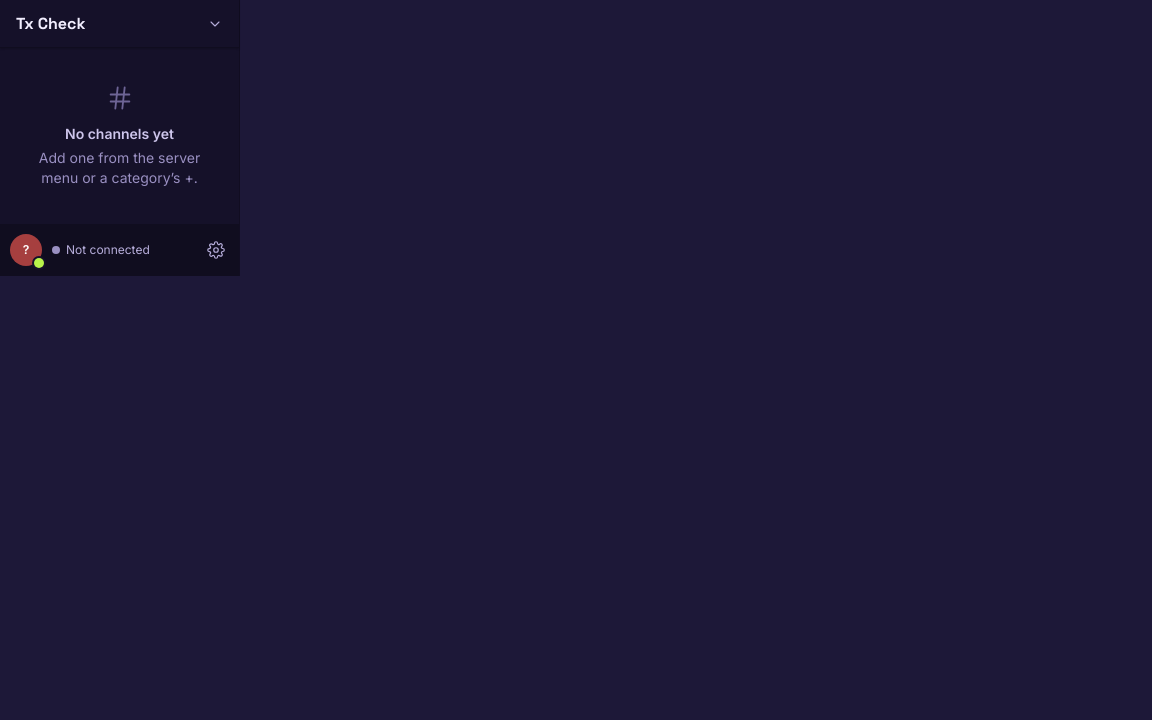
Scenario: cancelling the delete keeps the server
Click the button "Tx Check" at (120,24), box [8,0,231,47]
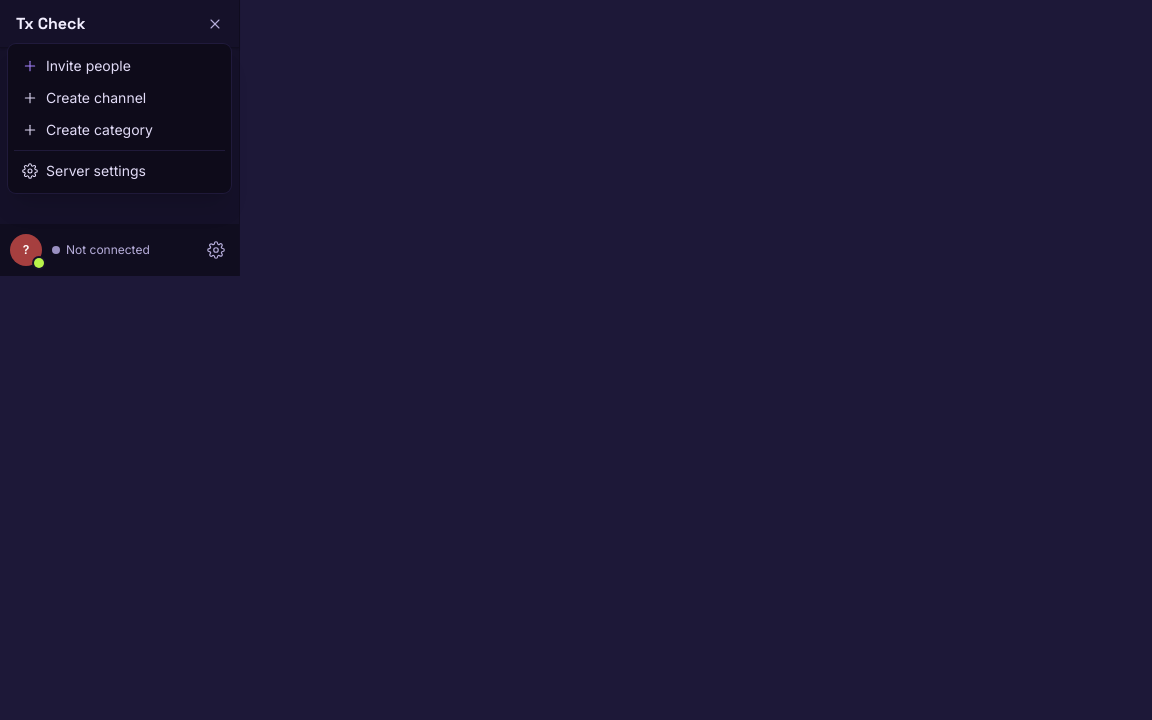
Click the button "Server settings" at (120,171), box [14,155,225,187]
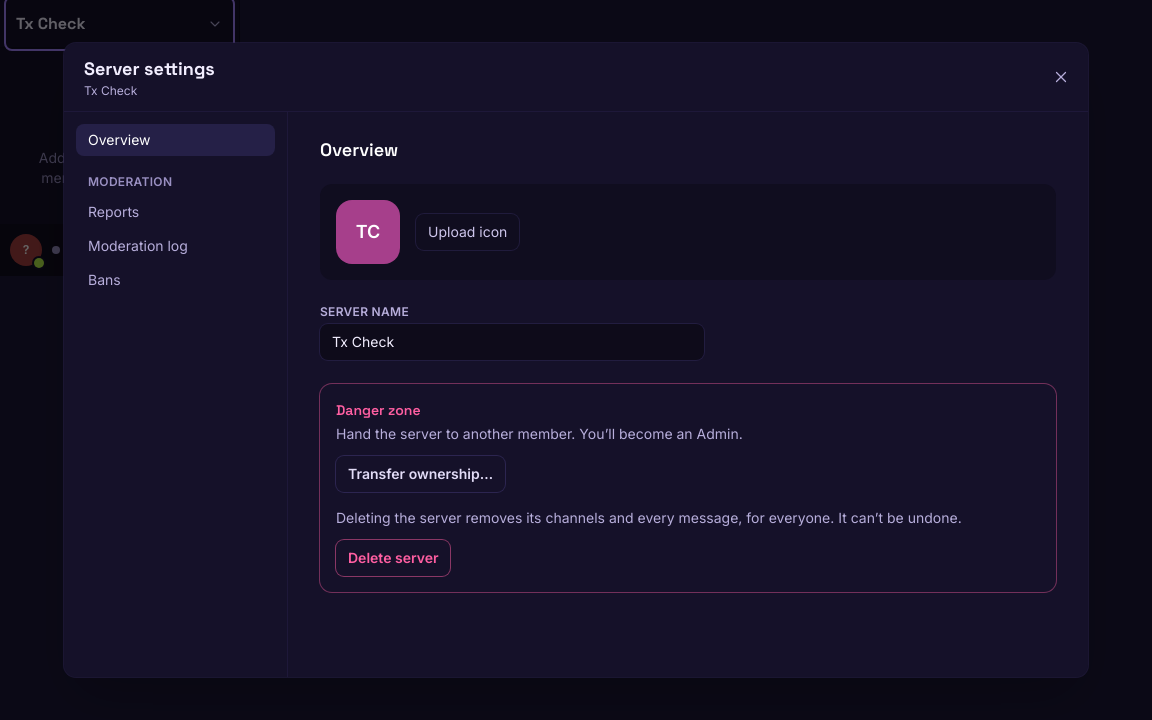
Click the button "Delete server" at (393,558), box [336,540,450,576]
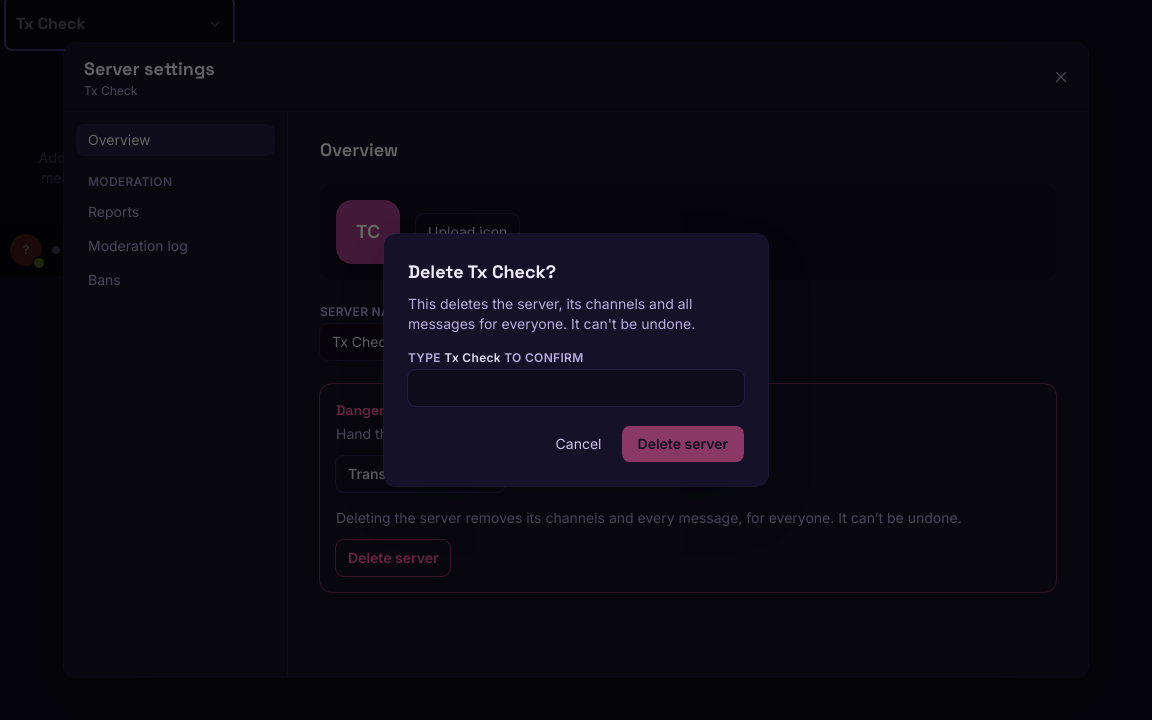
Press Escape in the button "Cancel", box [544,426,614,462]
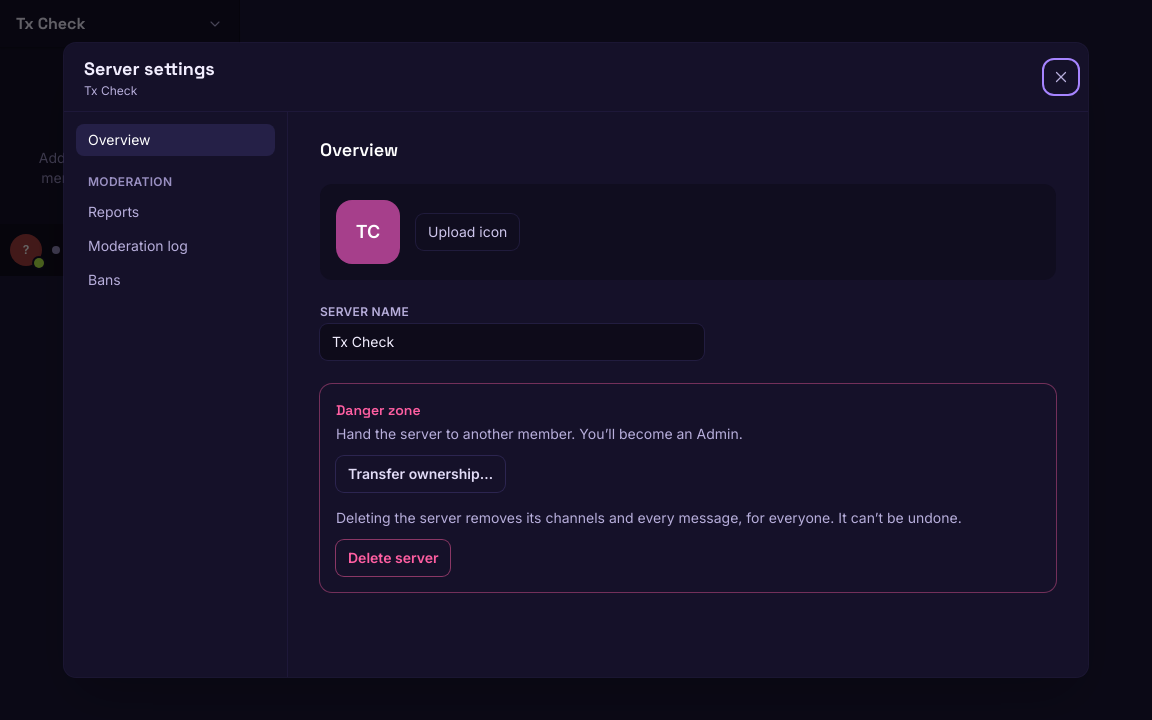
Result: the heading "Delete Tx Check?" is gone
